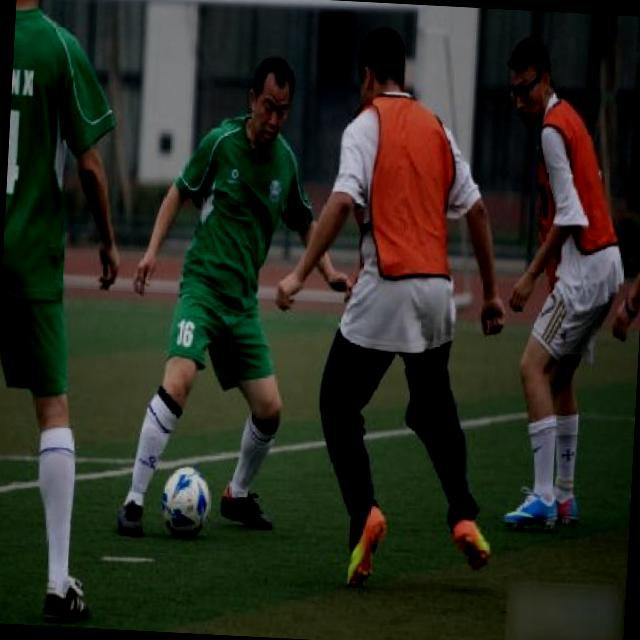Person: (124, 14, 327, 578), (467, 27, 627, 566)
